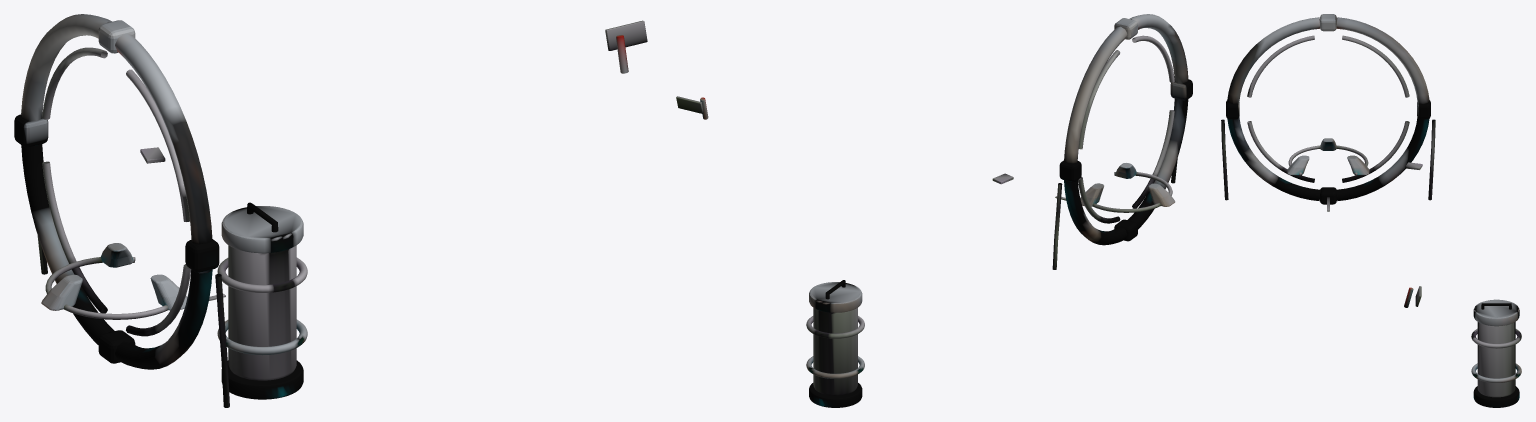
Rendered from device_parts.glb.
3 views of the same model, side by side, from view 1: azimuth 30°, elevation 25°; view 2: azimuth 150°, elevation 25°; view 3: azimuth 270°, elevation 25° (orthographic). The views are drawn at different scales.
Visible parts, largest first — view 1: DYN_core__RESONANCE_core_body, DYN_rotor__RESONANCE_ring_segment_1, DYN_rotor__RESONANCE_ring_segment_3, DYN_rotor__RESONANCE_ring_segment_2, DYN_core__RESONANCE_core_cap, DYN_rotor__RESONANCE_ring_segment_0, DYN_core__RESONANCE_core_base, DYN_ring_3__RESONANCE_energy_segment_3, DYN_ring_1__RESONANCE_energy_segment_1, DYN_socket_light__RESONANCE_socket_energy_ring, DYN_core__RESONANCE_core_ring_high, DYN_rotor__RESONANCE_ring_joint_2 (+10 smaller); view 2: DYN_core__RESONANCE_core_body, DYN_rotor__RESONANCE_ring_segment_0, DYN_rotor__RESONANCE_ring_segment_2, DYN_rotor__RESONANCE_ring_segment_3, DYN_core__RESONANCE_core_cap, DYN_rotor__RESONANCE_ring_segment_1, DYN_core__RESONANCE_core_base, DYN_ring_2__RESONANCE_energy_segment_2, DYN_ring_0__RESONANCE_energy_segment_0, DYN_socket_light__RESONANCE_socket_energy_ring, DYN_core__RESONANCE_core_ring_low, DYN_core__RESONANCE_core_ring_high; view 3: DYN_core__RESONANCE_core_body, DYN_rotor__RESONANCE_ring_segment_0, DYN_rotor__RESONANCE_ring_segment_1, DYN_rotor__RESONANCE_ring_segment_2, DYN_rotor__RESONANCE_ring_segment_3, DYN_core__RESONANCE_core_cap, DYN_core__RESONANCE_core_base, DYN_ring_1__RESONANCE_energy_segment_1, DYN_ring_0__RESONANCE_energy_segment_0, DYN_ring_3__RESONANCE_energy_segment_3, DYN_ring_2__RESONANCE_energy_segment_2, DYN_core__RESONANCE_core_ring_high (+5 smaller).
Part boxes in pixels (bbox=[...]): DYN_core__RESONANCE_core_body: bbox=[228, 245, 296, 380]; DYN_rotor__RESONANCE_ring_segment_1: bbox=[115, 33, 212, 244]; DYN_rotor__RESONANCE_ring_segment_3: bbox=[21, 144, 114, 344]; DYN_rotor__RESONANCE_ring_segment_2: bbox=[115, 269, 212, 369]; DYN_core__RESONANCE_core_cap: bbox=[221, 206, 303, 253]; DYN_rotor__RESONANCE_ring_segment_0: bbox=[21, 14, 111, 121]; DYN_core__RESONANCE_core_base: bbox=[221, 360, 303, 399]; DYN_ring_3__RESONANCE_energy_segment_3: bbox=[42, 161, 107, 313]; DYN_ring_1__RESONANCE_energy_segment_1: bbox=[126, 69, 189, 221]; DYN_socket_light__RESONANCE_socket_energy_ring: bbox=[45, 257, 168, 319]; DYN_core__RESONANCE_core_ring_high: bbox=[217, 257, 307, 292]; DYN_rotor__RESONANCE_ring_joint_2: bbox=[185, 239, 219, 272]; DYN_core__RESONANCE_core_body: bbox=[813, 308, 857, 395]; DYN_rotor__RESONANCE_ring_segment_0: bbox=[1064, 26, 1127, 163]; DYN_rotor__RESONANCE_ring_segment_2: bbox=[1127, 98, 1188, 229]; DYN_rotor__RESONANCE_ring_segment_3: bbox=[1064, 180, 1127, 245]; DYN_core__RESONANCE_core_cap: bbox=[809, 282, 862, 312]; DYN_rotor__RESONANCE_ring_segment_1: bbox=[1129, 14, 1188, 83]; DYN_core__RESONANCE_core_base: bbox=[809, 383, 862, 407]; DYN_ring_2__RESONANCE_energy_segment_2: bbox=[1132, 110, 1174, 208]; DYN_ring_0__RESONANCE_energy_segment_0: bbox=[1078, 50, 1120, 149]; DYN_socket_light__RESONANCE_socket_energy_ring: bbox=[1092, 172, 1172, 212]; DYN_core__RESONANCE_core_ring_low: bbox=[806, 356, 864, 378]; DYN_core__RESONANCE_core_ring_high: bbox=[806, 316, 864, 338]; DYN_core__RESONANCE_core_body: bbox=[1477, 322, 1515, 397]; DYN_rotor__RESONANCE_ring_segment_0: bbox=[1336, 17, 1429, 104]; DYN_rotor__RESONANCE_ring_segment_1: bbox=[1227, 17, 1320, 104]; DYN_rotor__RESONANCE_ring_segment_2: bbox=[1227, 117, 1320, 201]; DYN_rotor__RESONANCE_ring_segment_3: bbox=[1336, 117, 1429, 201]; DYN_core__RESONANCE_core_cap: bbox=[1473, 299, 1519, 326]; DYN_core__RESONANCE_core_base: bbox=[1473, 386, 1519, 407]; DYN_ring_1__RESONANCE_energy_segment_1: bbox=[1247, 35, 1314, 97]; DYN_ring_0__RESONANCE_energy_segment_0: bbox=[1342, 35, 1409, 97]; DYN_ring_3__RESONANCE_energy_segment_3: bbox=[1342, 121, 1409, 182]; DYN_ring_2__RESONANCE_energy_segment_2: bbox=[1247, 121, 1314, 182]; DYN_core__RESONANCE_core_ring_high: bbox=[1471, 328, 1521, 348].
Bounding box in the file's own units: 5.74 × 4.35 × 3.93.
